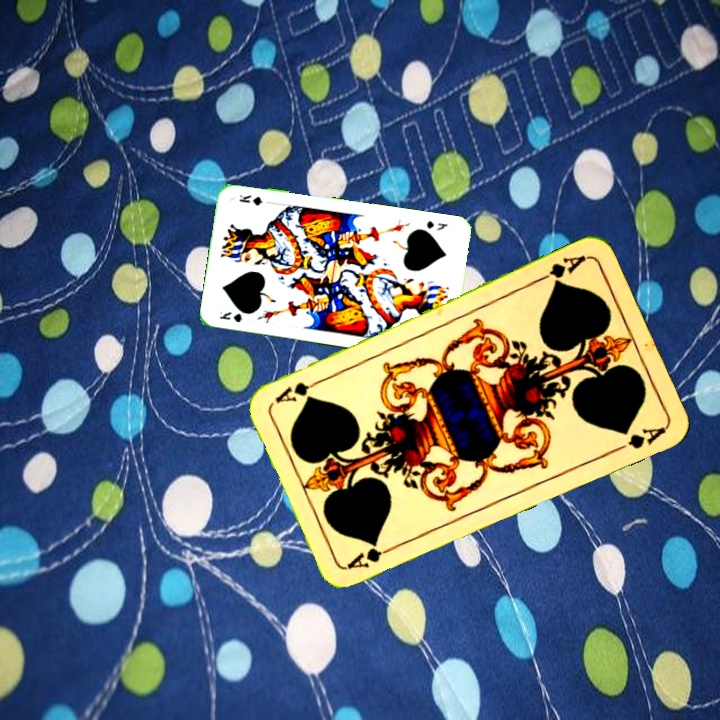GA: (533, 251, 589, 288), (343, 540, 400, 572)
GK: (215, 307, 246, 325), (422, 217, 450, 233)
